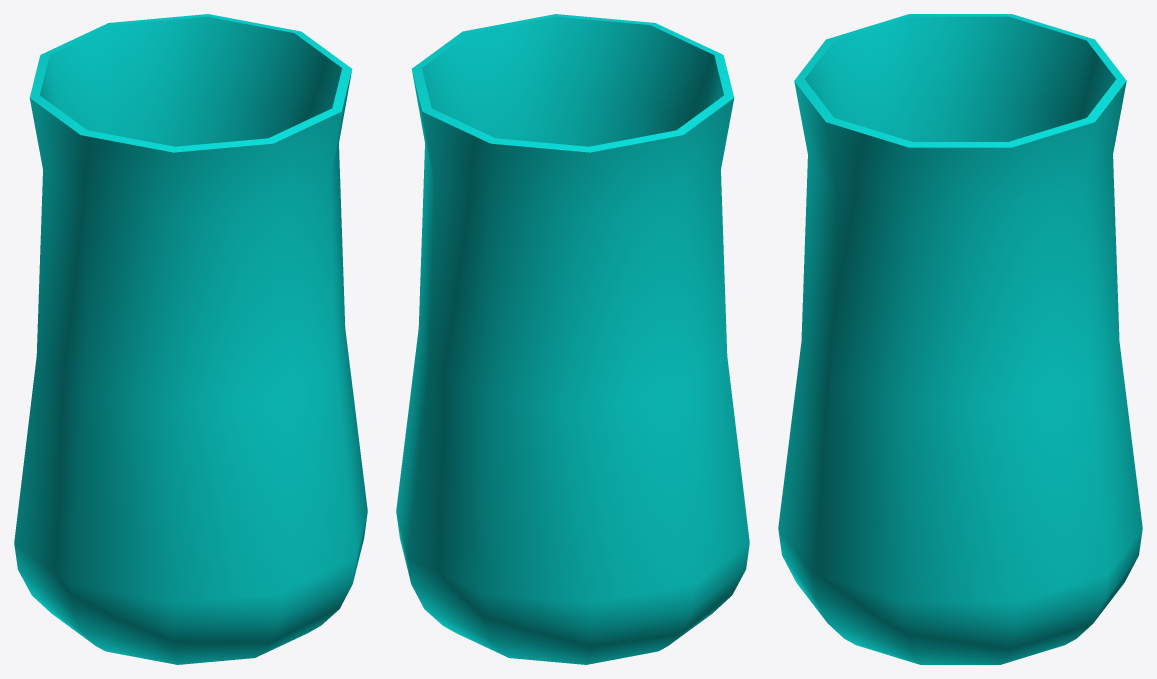
The model's file is Beaker4.fbx.
3 views of the same model, side by side, from view 1: azimuth 30°, elevation 25°; view 2: azimuth 150°, elevation 25°; view 3: azimuth 270°, elevation 25° (orthographic).
Visible parts, largest first — view 1: Cylinder.126; view 2: Cylinder.126; view 3: Cylinder.126.
Boxes of the visible parts, x1,y1,x2,y2 form: Cylinder.126: (14, 14, 367, 664); Cylinder.126: (396, 14, 749, 664); Cylinder.126: (778, 14, 1142, 664).
Bounding box in the file's own units: 0.1349 × 0.2291 × 0.1418.
